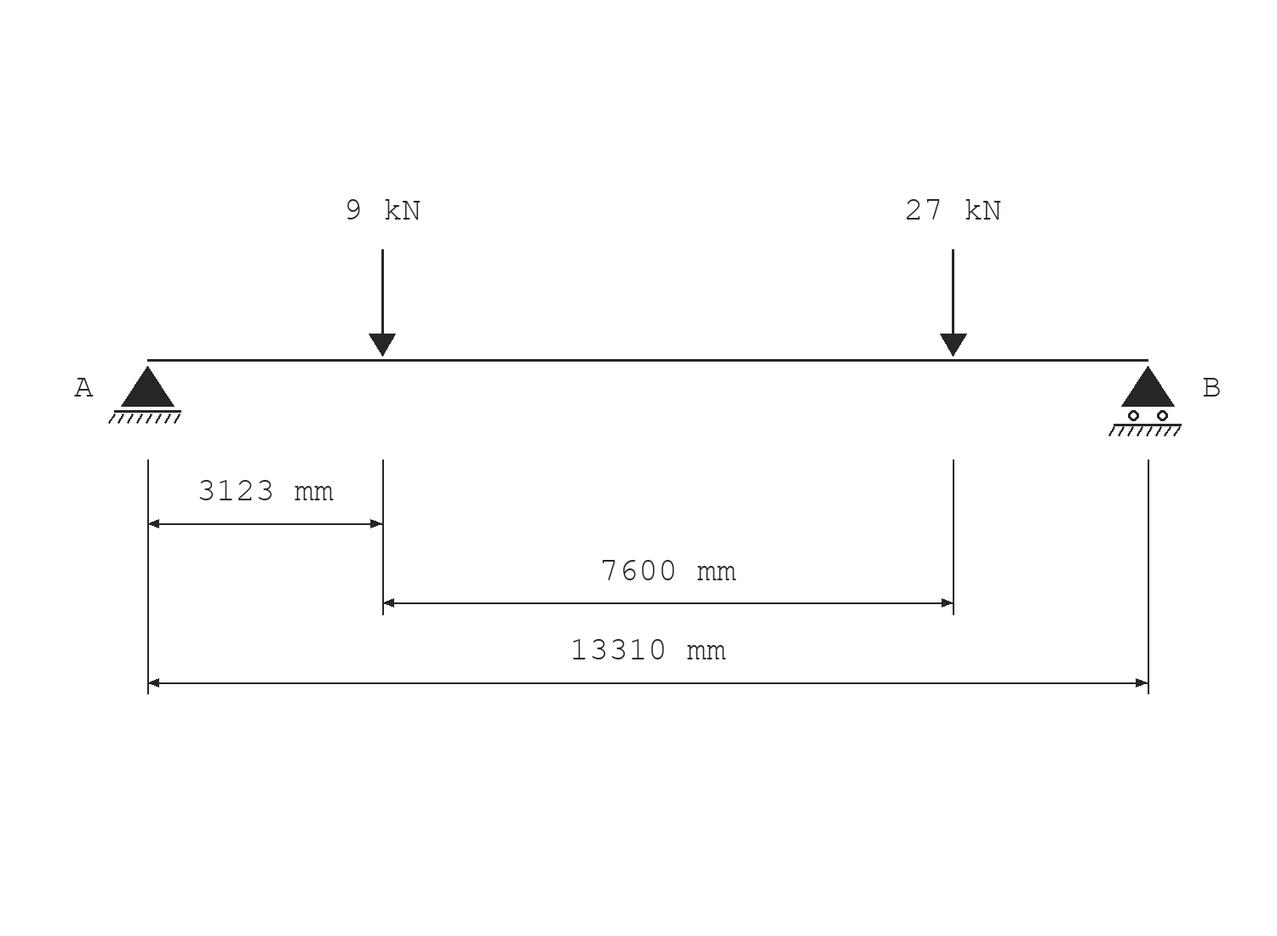pin_support: (108, 366, 181, 424)
point_load: (369, 249, 396, 357), (940, 249, 967, 357)
roller_support: (1108, 366, 1182, 437)
